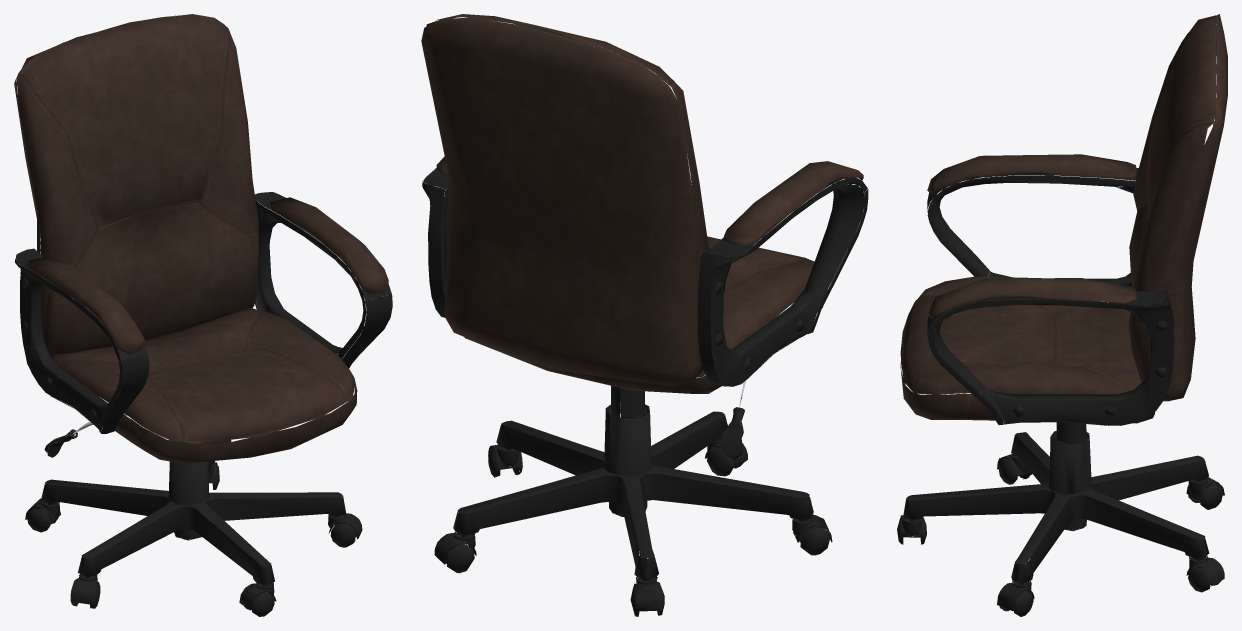
Rendered from sillon_oficina.glb.
The picture shows the model from 3 angles, left to right: view 1: azimuth 30°, elevation 25°; view 2: azimuth 150°, elevation 25°; view 3: azimuth 270°, elevation 25°; orthographic projection. The views are drawn at different scales.
Parts seen in each view (by area): view 1: leather.001, plastic.001; view 2: leather.001, plastic.001; view 3: leather.001, plastic.001.
Boxes of the visible parts, x1,y1,x2,y2 form: leather.001: (14,14,388,463); plastic.001: (15,192,392,616); leather.001: (421,14,863,393); plastic.001: (422,167,868,616); leather.001: (900,14,1227,423); plastic.001: (897,168,1224,616).
Size of the model in its own units: 0.6243 by 0.9851 by 0.5888.
3 materials, 3 textured.
